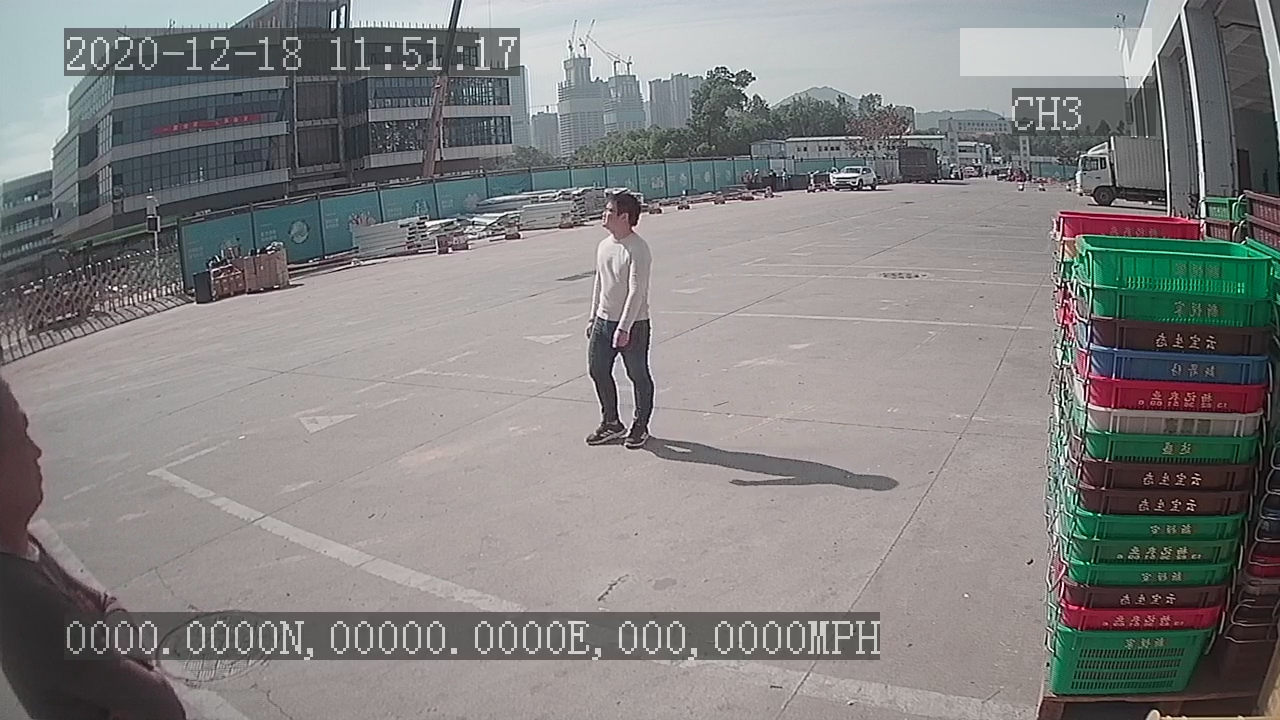person: (581, 185, 658, 456)
